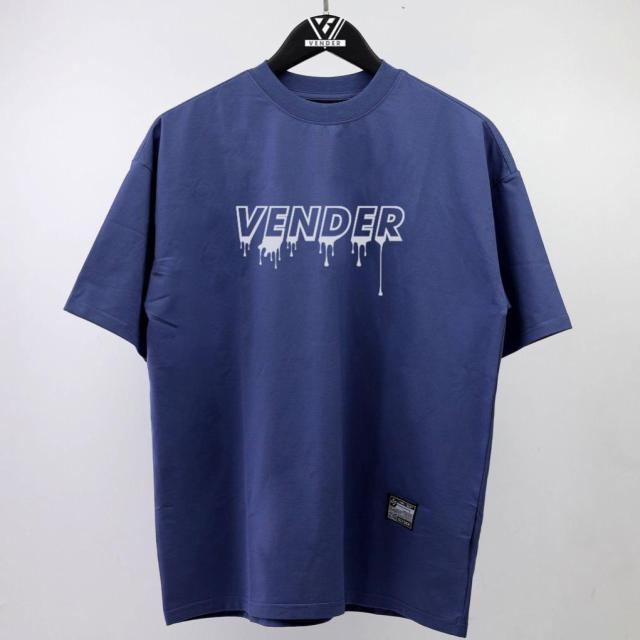Shirt: (61, 57, 578, 638)
